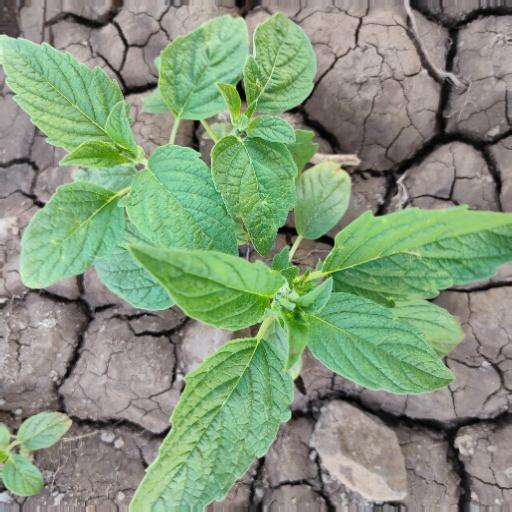crop: (125, 172, 512, 497), (10, 26, 334, 320)
